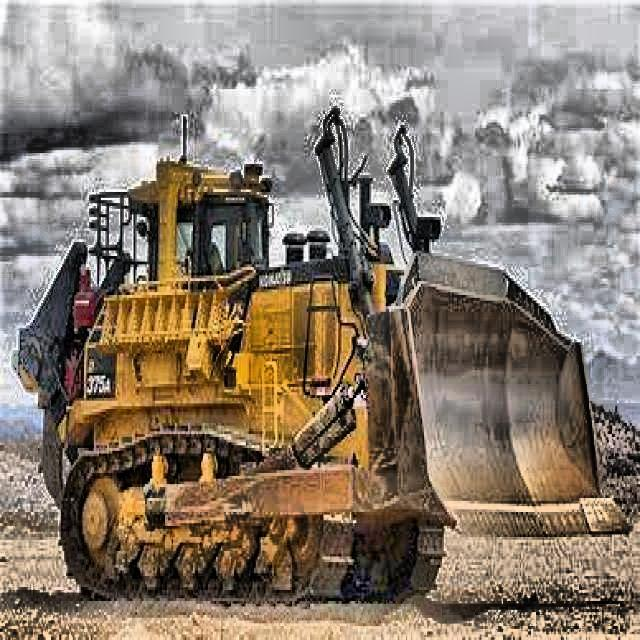bull_dozer/loader/grader: (12, 128, 626, 618)
